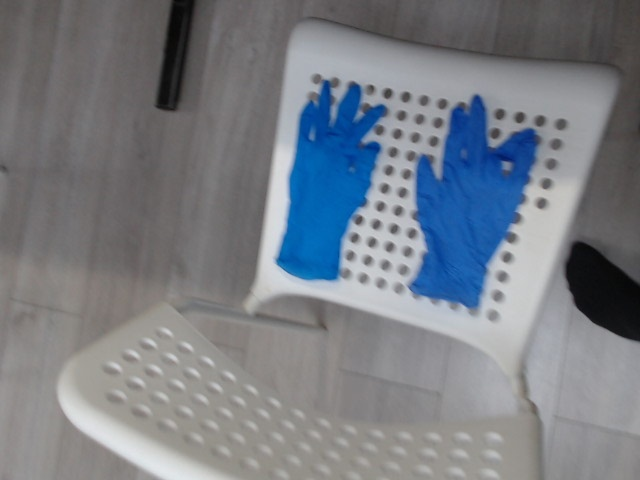medical_glove: (411, 97, 537, 306), (276, 80, 388, 280)
